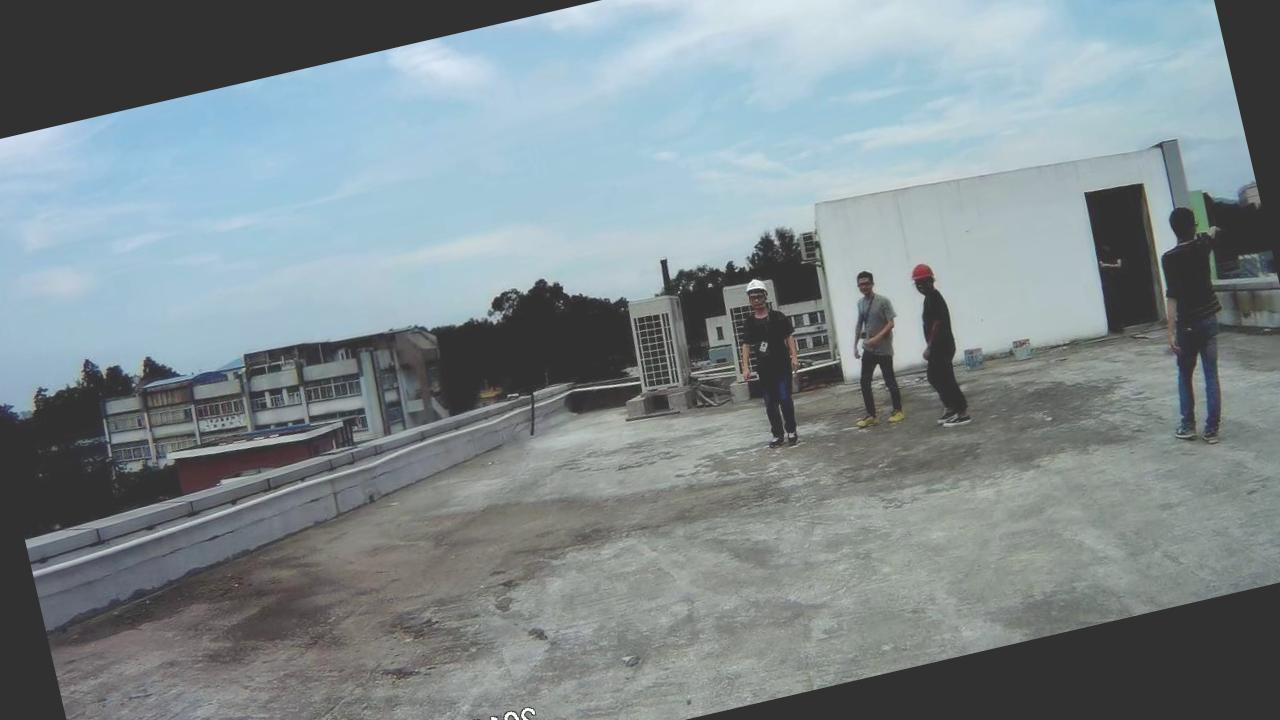person: (1120, 191, 1264, 455), (721, 276, 816, 452), (822, 262, 921, 428), (891, 256, 976, 434)
